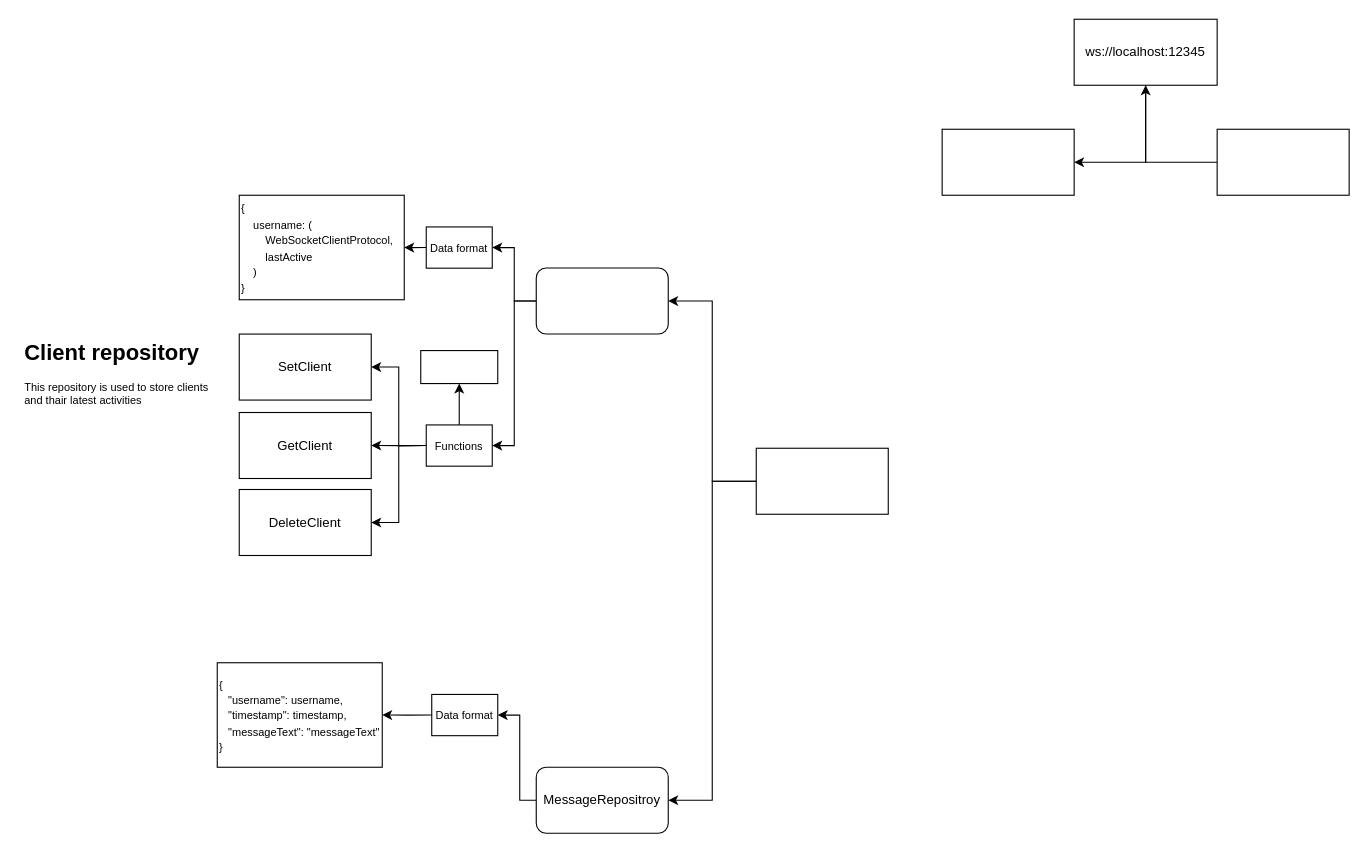
This 1368x853 diagram has some shape labels left out. Each missing label, with the centre of its shape:
"backend : Python" belongs at point (1007, 161).
"ClientRepository" belongs at point (601, 300).
"clients" belongs at point (459, 366).
"frontend : JavaScript" belongs at point (1282, 161).
"Repositorys" belongs at point (821, 480).
